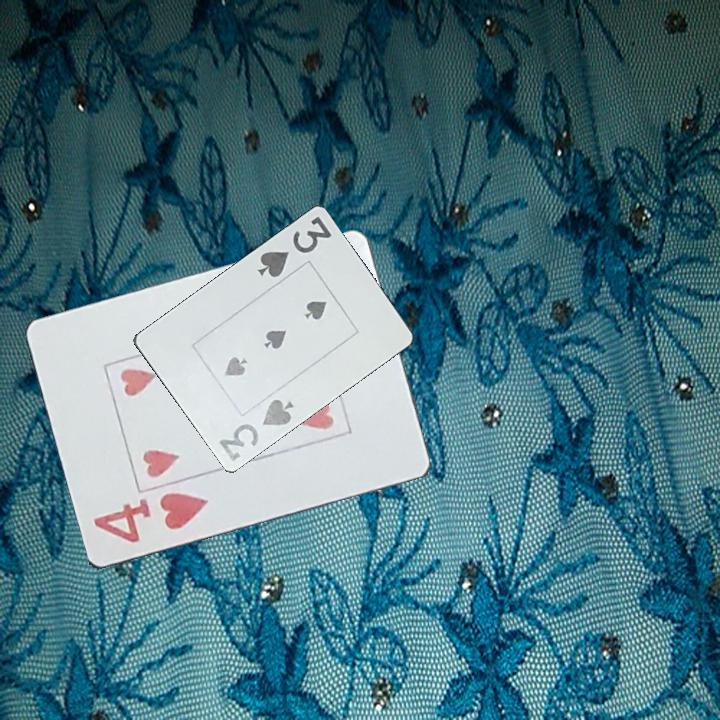3s: (215, 395, 297, 465), (253, 213, 335, 281)
4h: (89, 489, 212, 549)
